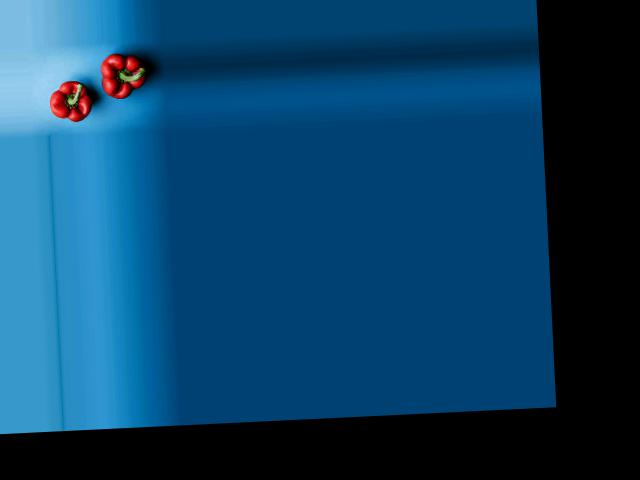bell_pepper: (91, 52, 153, 105)
